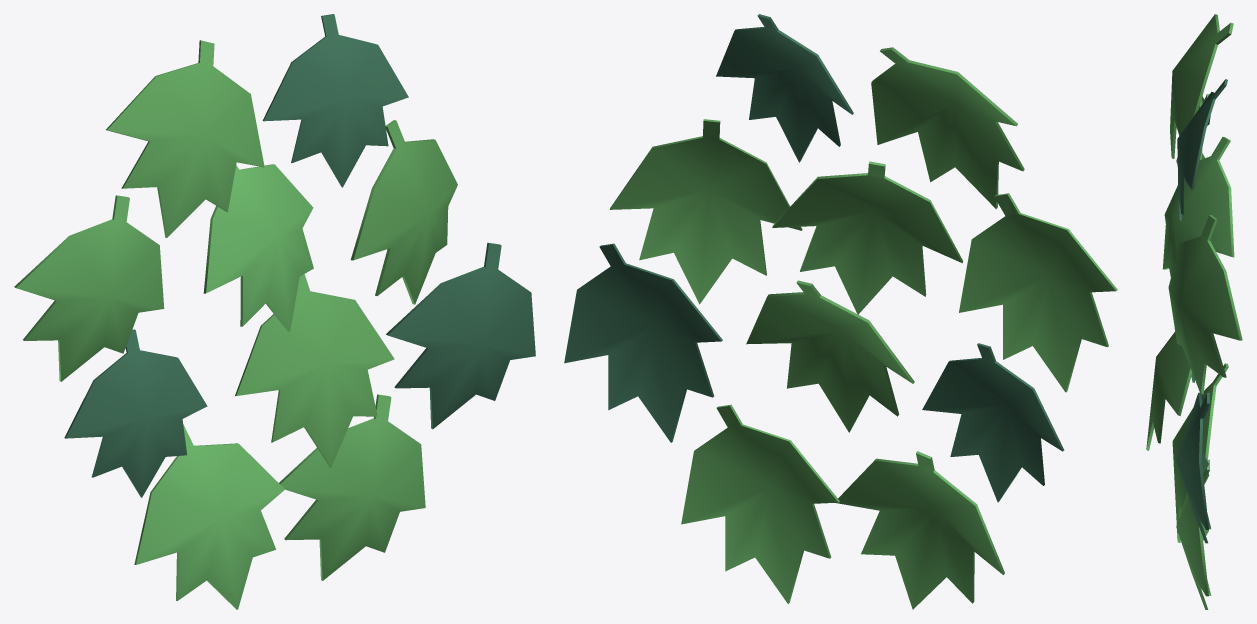
The model's file is A_VineLeaves.fbx.
3 renders of one model, left to right at view 1: azimuth 30°, elevation 25°; view 2: azimuth 150°, elevation 25°; view 3: azimuth 270°, elevation 25°, orthographic. The views are drawn at different scales.
Visible parts, largest first — view 1: polySurface5; view 2: polySurface5; view 3: polySurface5.
Part boxes in pixels (box(x1,y1,x2,y2)): polySurface5: box(14, 14, 535, 609); polySurface5: box(564, 14, 1117, 609); polySurface5: box(1146, 14, 1242, 609).
Size of the model in its own units: 15.78 by 16.2 by 2.71.
